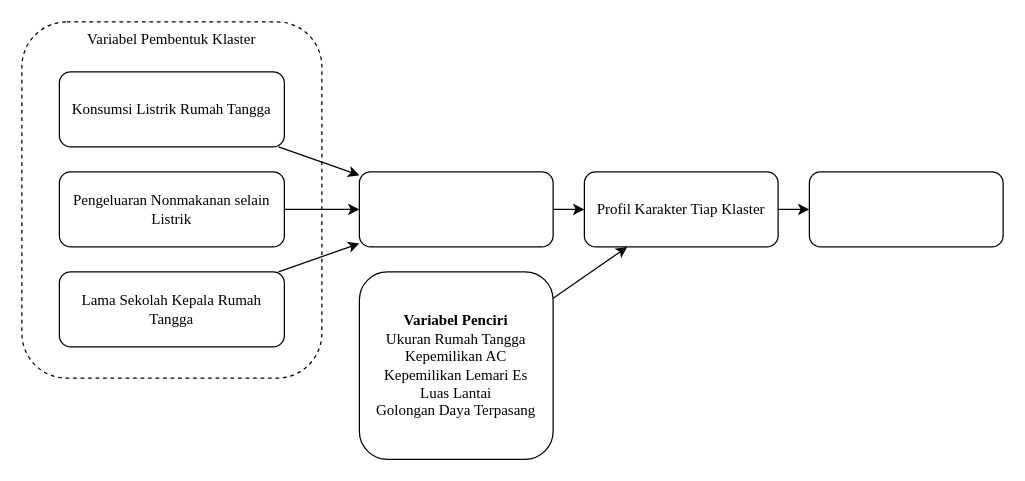
Image size: 1025x481. Some labels were removed from this diagram. The centre of each missing label's shape, as x and y in pixels:
"Indikasi Kelompok yang Berpotensi Mengalami Adaptation Cooling Deficit" goes at (x=905, y=209).
"Klaster Rumah Tangga" goes at (x=455, y=209).
